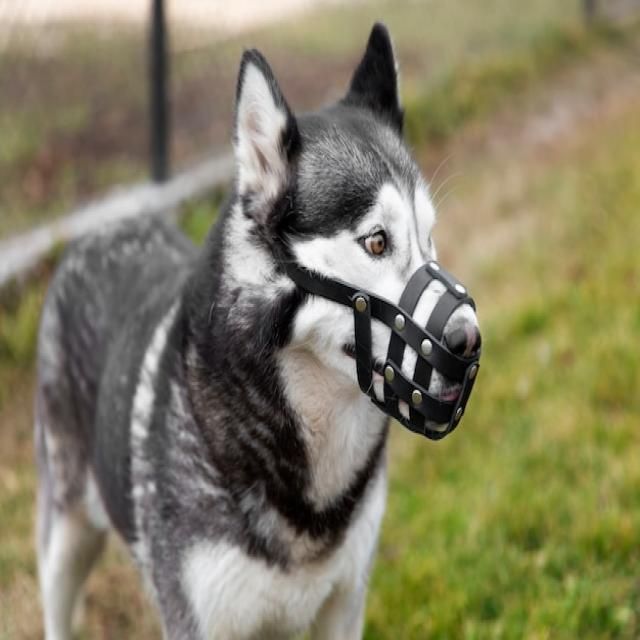Dog: (32, 19, 483, 640)
